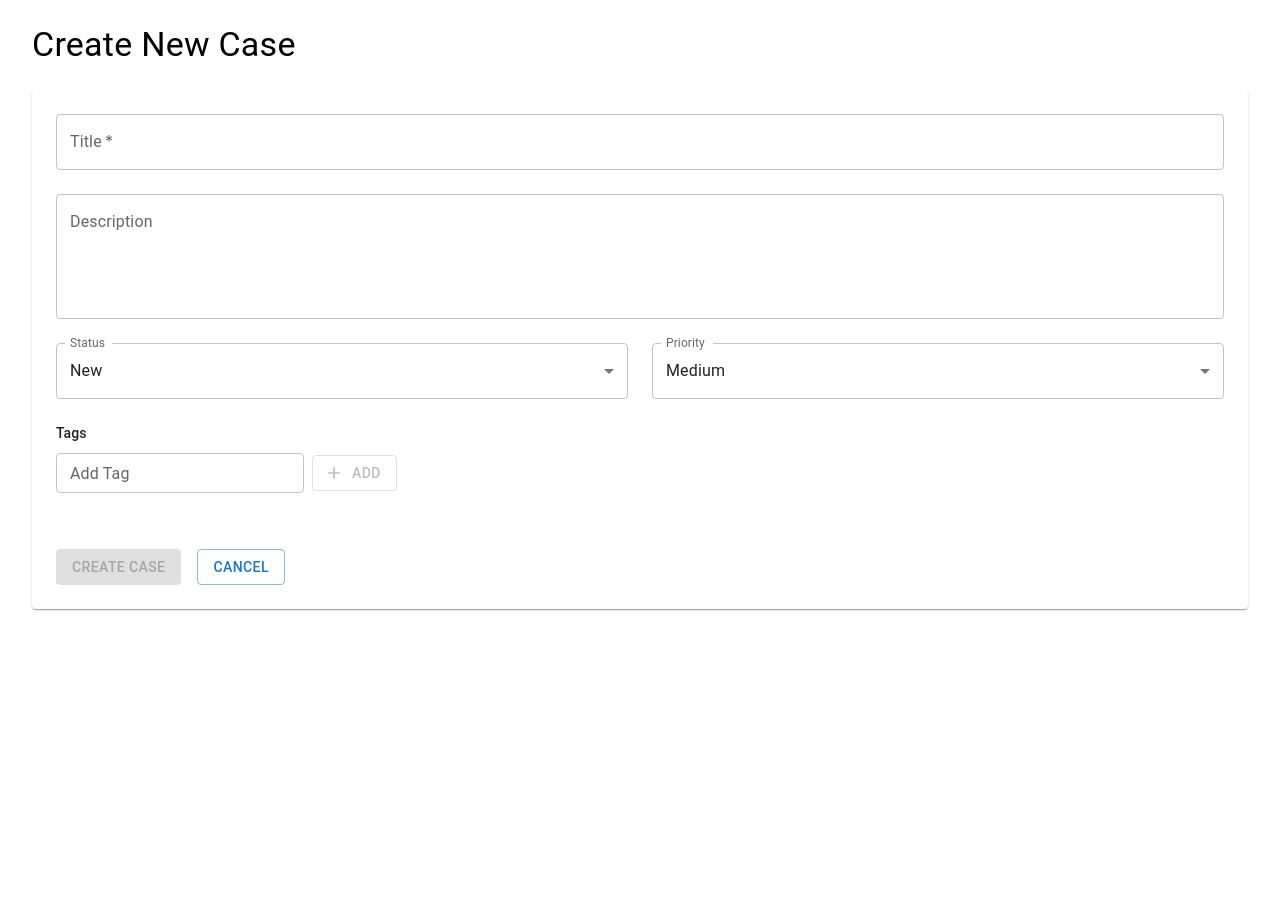
Test: CaseForm — submission › shows an error alert when the backend rejects
Type "Hello" into the field labelled "Title *".
click(640, 142); type("Hello")  # box [56,114,1224,170]
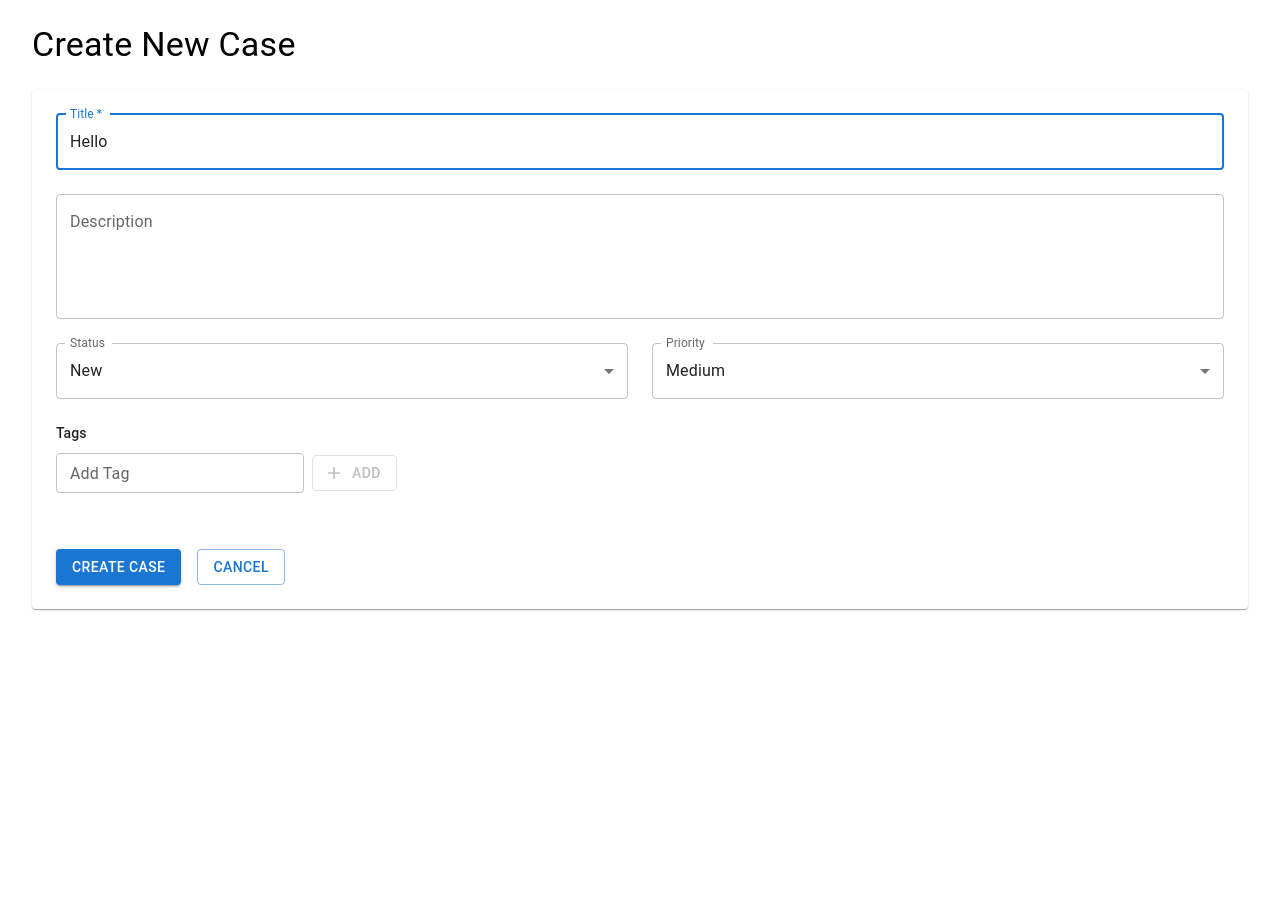
Click the button "Create Case".
click(119, 567)  # box [56,549,181,586]
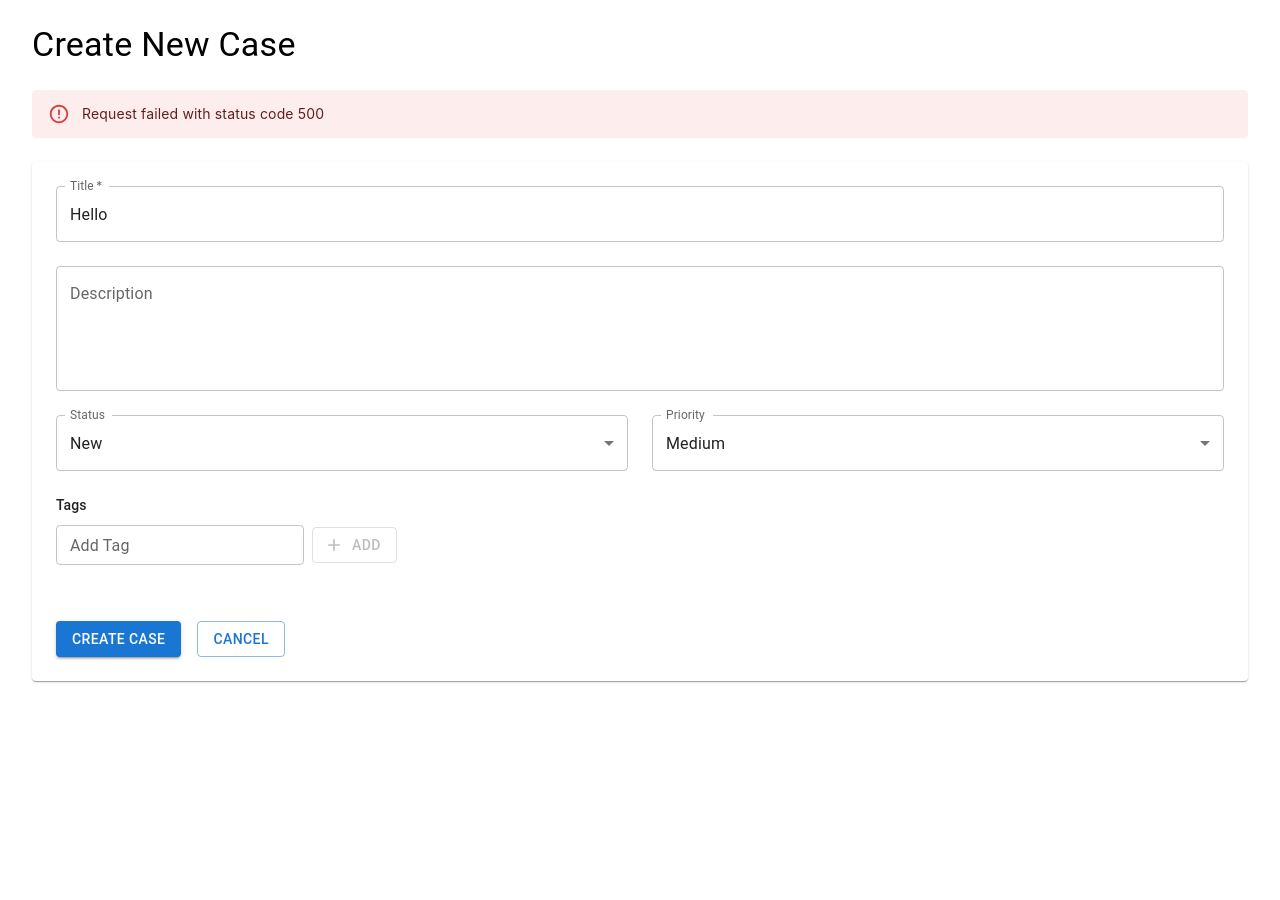
Expected: the text "Request failed with status code 500" is shown, [82,105,324,122]
